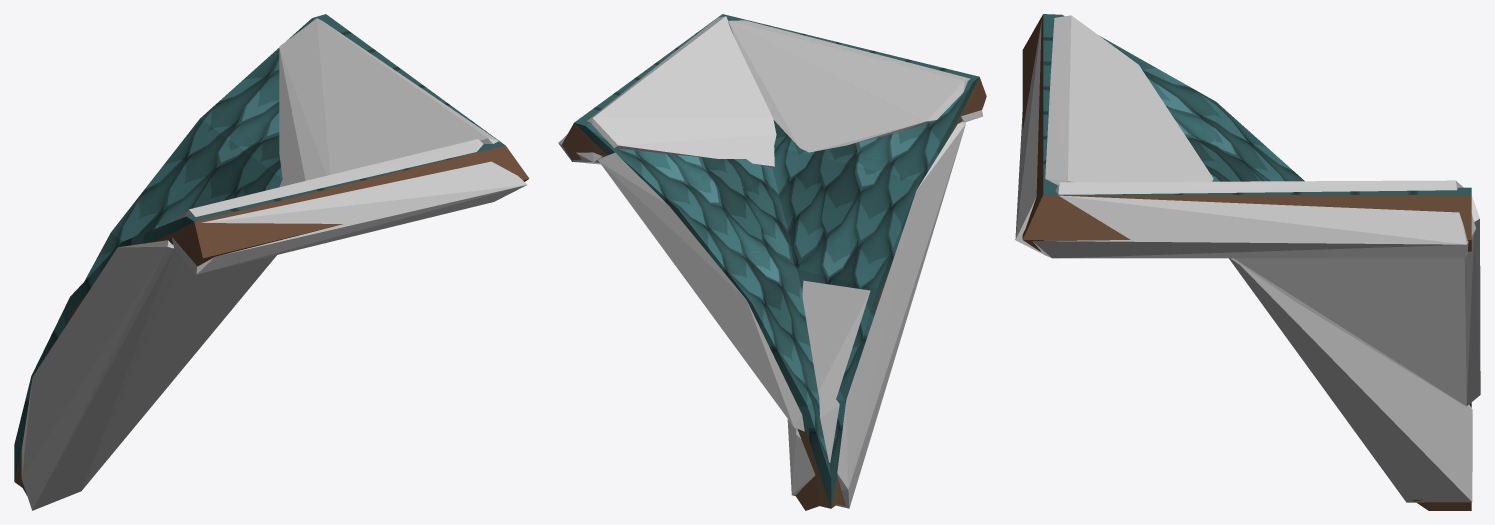
The model's file is SM_Bld_Roof_Convex_Corner_01.fbx.
3 views of the same model, side by side, from view 1: azimuth 30°, elevation 25°; view 2: azimuth 150°, elevation 25°; view 3: azimuth 270°, elevation 25° (orthographic). The views are drawn at different scales.
Parts seen in each view (by area): view 1: SM_Bld_Roof_Convex_Corner_01_ConvexHulls, SM_Bld_Roof_Convex_Corner_01; view 2: SM_Bld_Roof_Convex_Corner_01_ConvexHulls, SM_Bld_Roof_Convex_Corner_01; view 3: SM_Bld_Roof_Convex_Corner_01_ConvexHulls, SM_Bld_Roof_Convex_Corner_01.
Part boxes in pixels (left/top/right/bottom): SM_Bld_Roof_Convex_Corner_01_ConvexHulls: left=21, top=18, right=527, bottom=510; SM_Bld_Roof_Convex_Corner_01: left=14, top=14, right=529, bottom=495; SM_Bld_Roof_Convex_Corner_01_ConvexHulls: left=558, top=16, right=983, bottom=508; SM_Bld_Roof_Convex_Corner_01: left=562, top=14, right=986, bottom=510; SM_Bld_Roof_Convex_Corner_01_ConvexHulls: left=1015, top=15, right=1480, bottom=502; SM_Bld_Roof_Convex_Corner_01: left=1022, top=14, right=1471, bottom=510.
Bounding box in the file's own units: 272 × 271 × 315.
4 materials, 3 textured.
